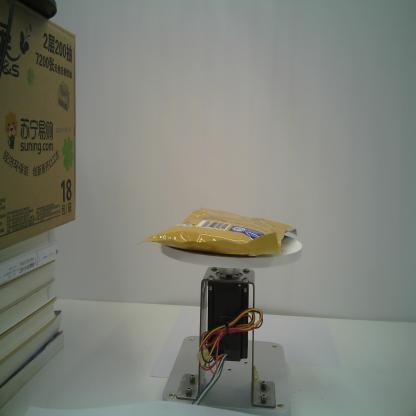Dried Fruit: (132, 206, 300, 261)
